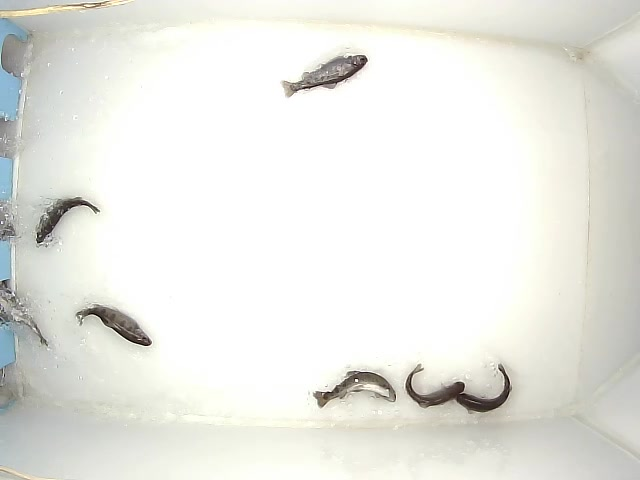fish: (279, 54, 369, 99), (74, 302, 153, 348), (311, 369, 398, 410), (34, 196, 101, 245), (453, 362, 513, 415), (405, 362, 466, 409)
